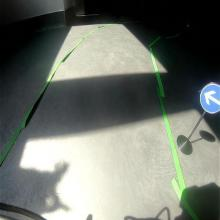left: (198, 80, 220, 116)
